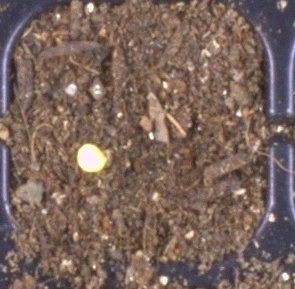chilli seed: (76, 143, 107, 173)
